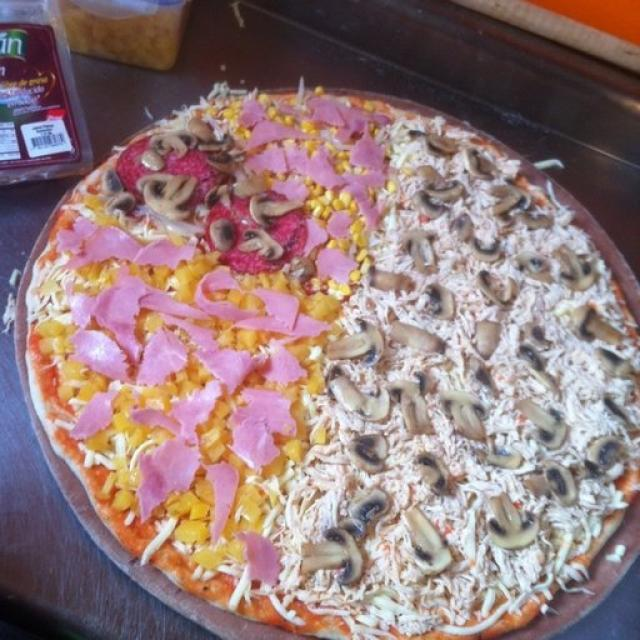Ham: (138, 440, 200, 508), (62, 220, 143, 266), (191, 323, 244, 385), (224, 404, 278, 464), (73, 328, 127, 384), (95, 278, 139, 342), (198, 273, 256, 319), (257, 297, 318, 336), (205, 460, 232, 543), (261, 340, 303, 392), (244, 536, 286, 588), (313, 96, 372, 131), (257, 149, 305, 191), (74, 394, 117, 440), (142, 332, 181, 378), (138, 405, 204, 432), (248, 118, 310, 145), (349, 172, 381, 222), (144, 291, 197, 321), (147, 236, 193, 267), (325, 206, 355, 246), (320, 250, 358, 281), (308, 152, 340, 188), (302, 216, 327, 253), (356, 142, 383, 173), (235, 100, 263, 126)
Mushrooms: (302, 524, 371, 585), (323, 368, 392, 419), (488, 486, 537, 549), (327, 314, 380, 372), (443, 390, 489, 452), (406, 508, 447, 571), (517, 393, 567, 444), (387, 319, 446, 361), (395, 381, 434, 441), (340, 433, 396, 474), (572, 305, 626, 347), (520, 320, 556, 383), (419, 167, 460, 222), (496, 183, 540, 234), (138, 176, 196, 211), (560, 240, 596, 292), (583, 432, 628, 471), (361, 262, 415, 294), (414, 450, 452, 491), (423, 273, 456, 320), (419, 126, 462, 161), (534, 461, 571, 501), (349, 484, 390, 518), (145, 129, 180, 168), (404, 224, 434, 269), (478, 264, 512, 300), (466, 226, 498, 262), (518, 252, 546, 290), (476, 315, 498, 363), (600, 349, 633, 380), (245, 232, 280, 261), (212, 159, 241, 189), (213, 216, 233, 250), (102, 171, 124, 199)
Pizza: (22, 86, 640, 640)
